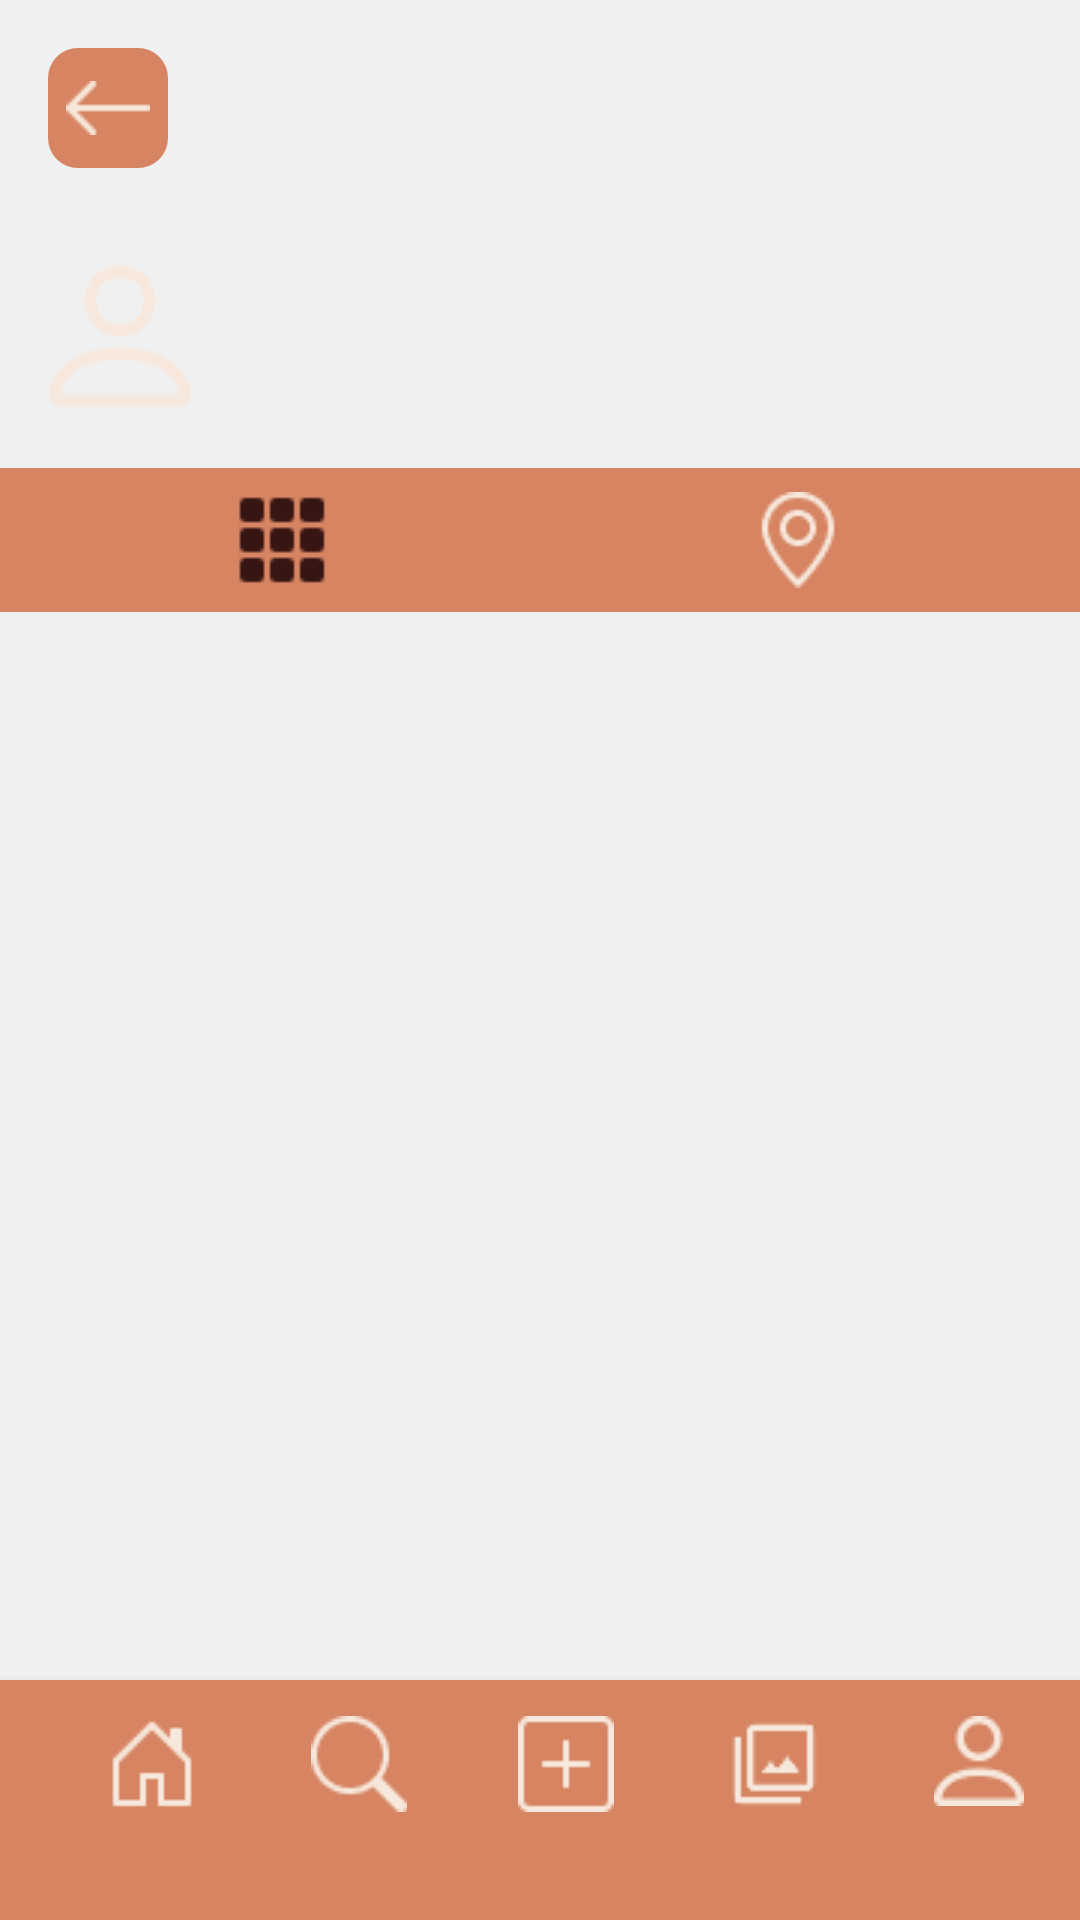

Locate icon controls on the screen. Image size 1080px x 1920px, boxes as (x1,y1,x2,y2).
geo: (761,492,835,588)
grid gap: (239,497,325,583)
house: (112,1721,192,1807)
left arrow: (48,48,168,168)
person: (934,1716,1024,1806)
plus square: (518,1716,614,1812)
search: (311,1716,407,1812)
